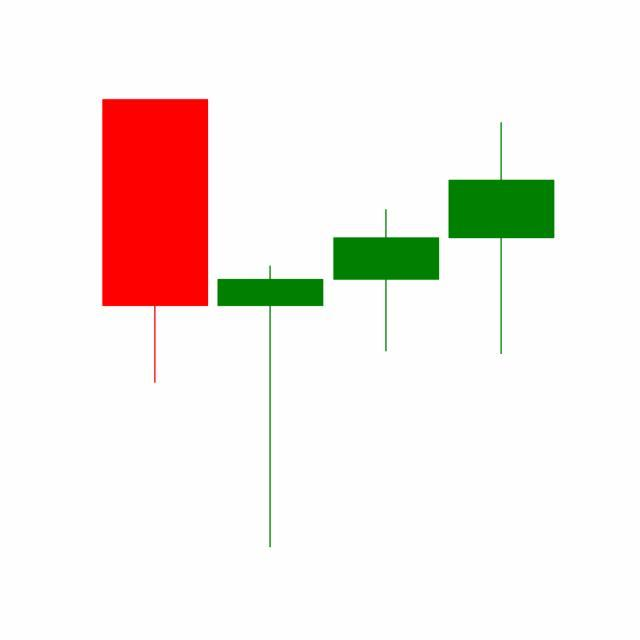Spinning Top: (444, 120, 560, 358)
